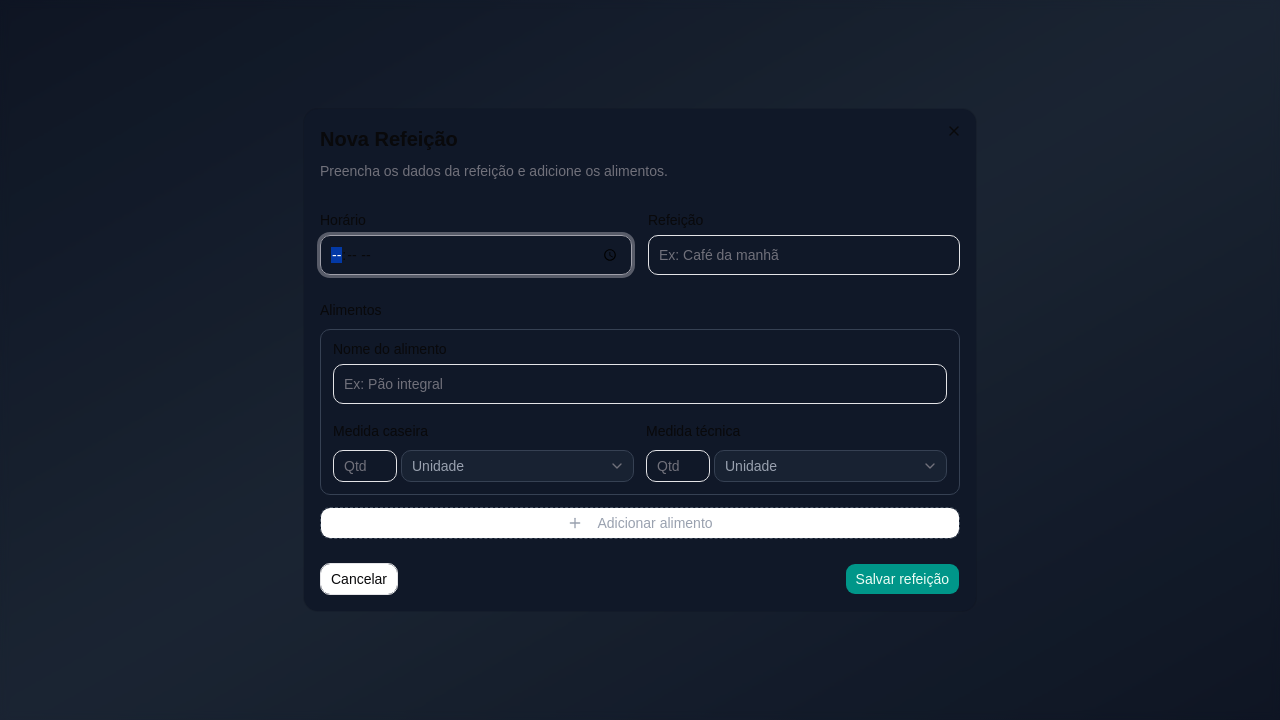
AddMealModal › shows validation error when food name is empty on submit
Step 1. Type "08:00" into the time field named "time" → (476, 255), box [320, 235, 632, 275]
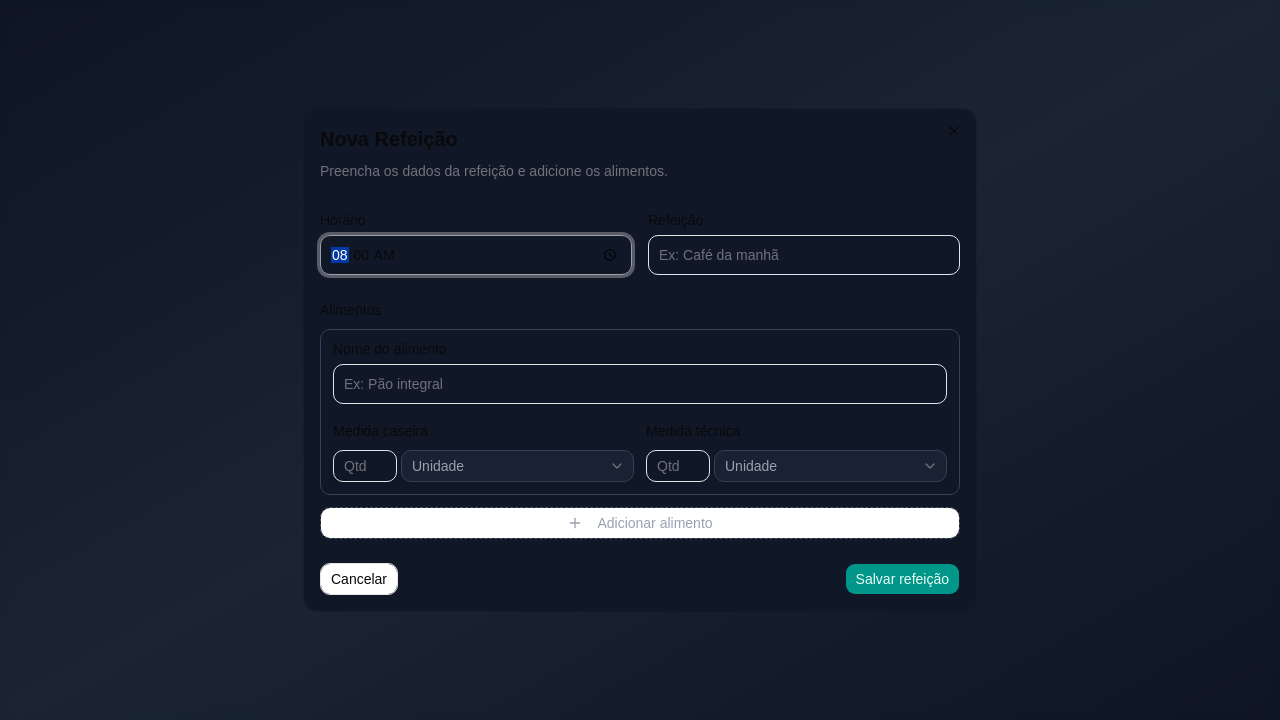
Step 2. Type "Café da manhã" into the field named "name" → (804, 255), box [648, 235, 960, 275]
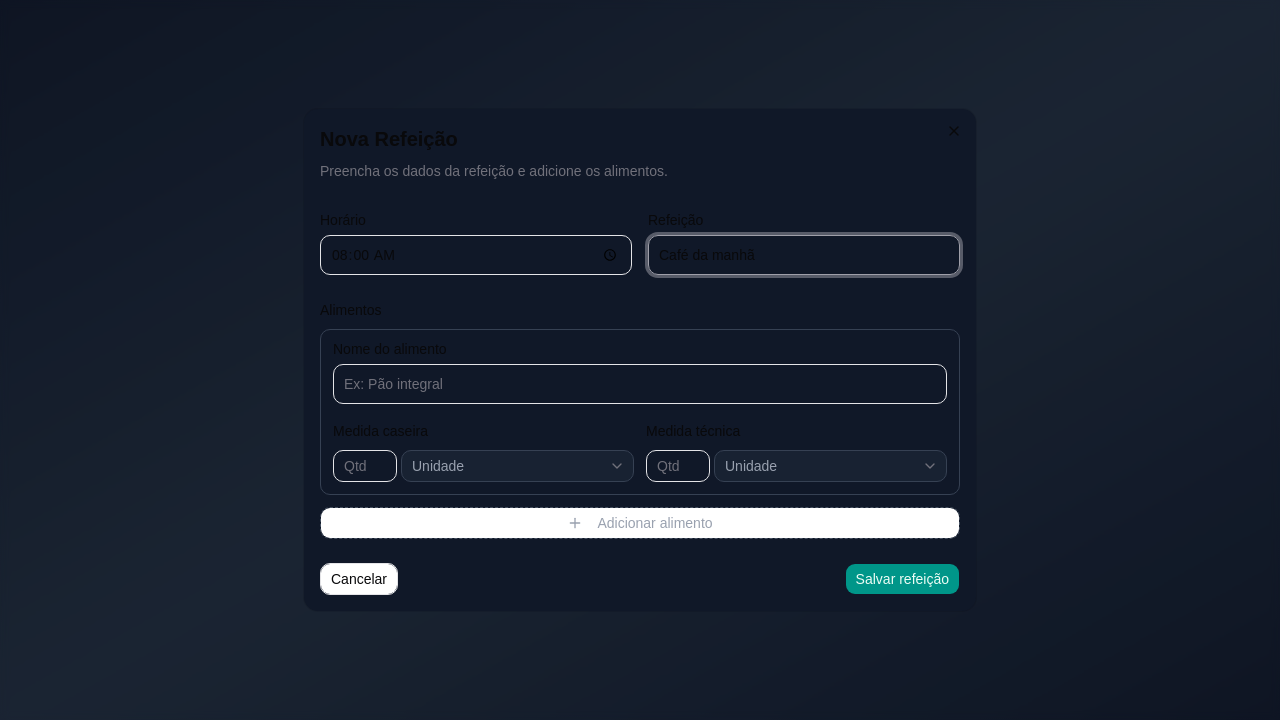
Step 3. Click the button "Salvar refeição" → click(902, 579), box [845, 563, 960, 595]
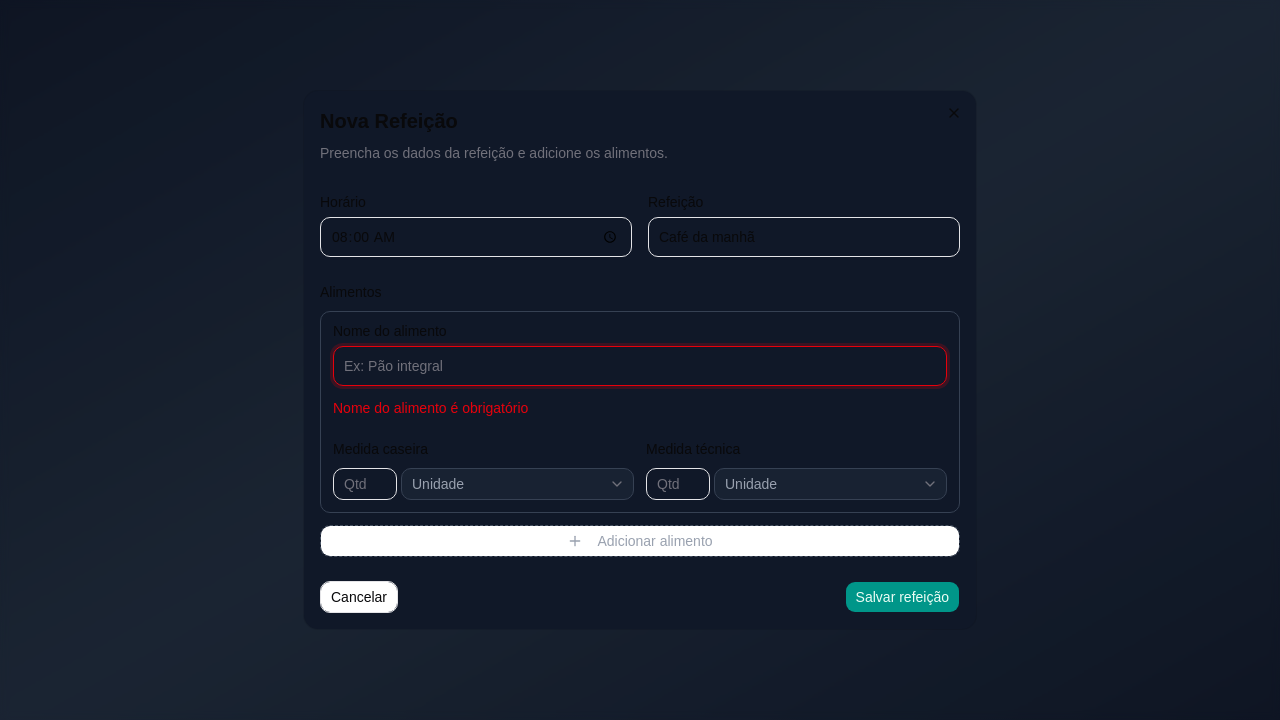
Now the text "Nome do alimento é obrigatório" is shown, box [333, 400, 528, 416]
